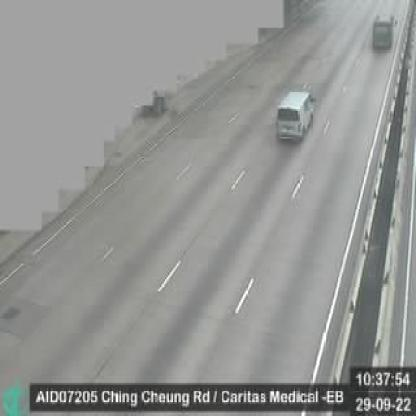Car: (269, 83, 319, 144), (369, 10, 398, 58)
